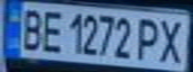1: (63, 10, 84, 55)
2: (112, 13, 136, 60), (78, 10, 100, 56)
7: (97, 11, 118, 57)
B: (15, 4, 45, 52)
E: (36, 7, 66, 54)
P: (136, 15, 163, 62)
X: (154, 16, 190, 64)
